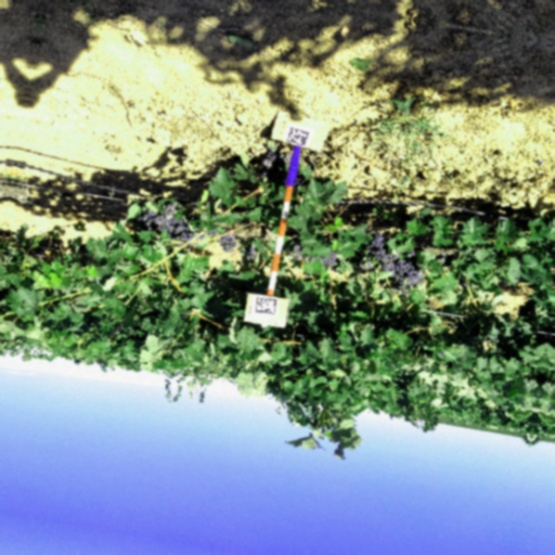QR: (286, 126, 310, 146), (255, 296, 277, 315)
